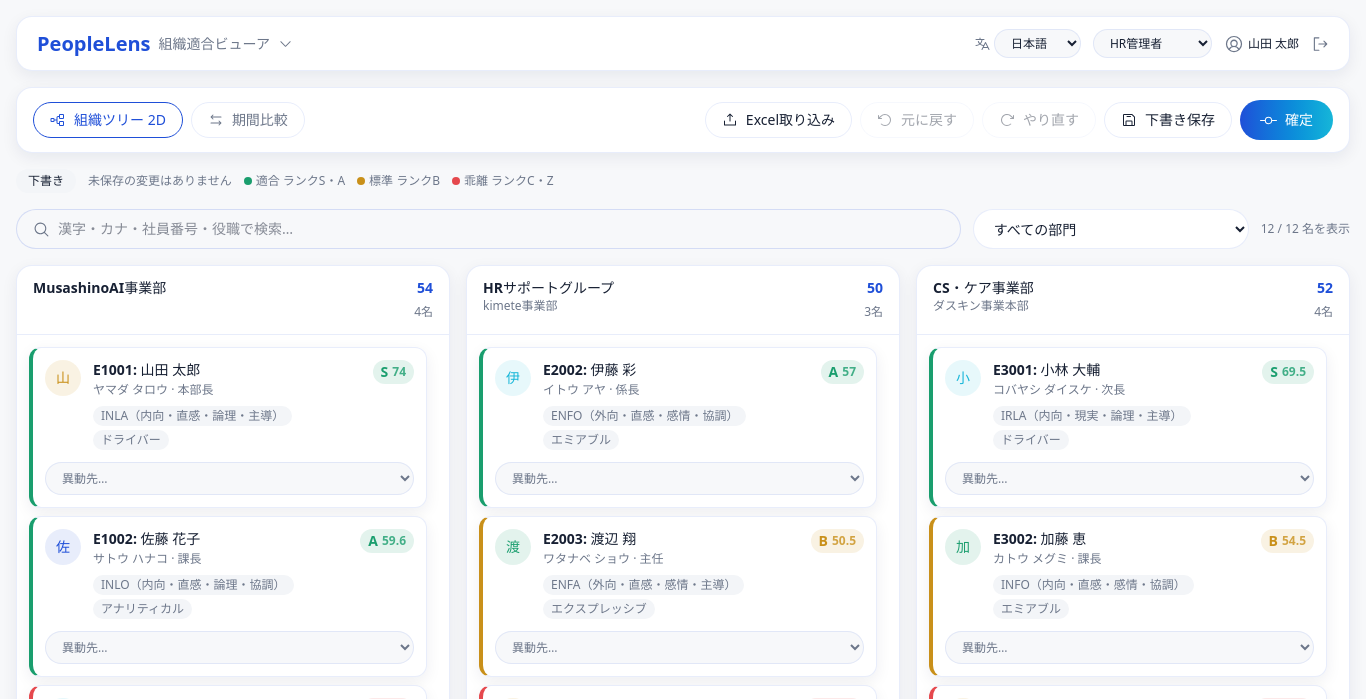
Scenario: PeopleLens organization board › filters the board through the Kanji/Kana search box
Type "やまだ" into the search field named "人材検索" at [501, 229], box [58,219,944,239]
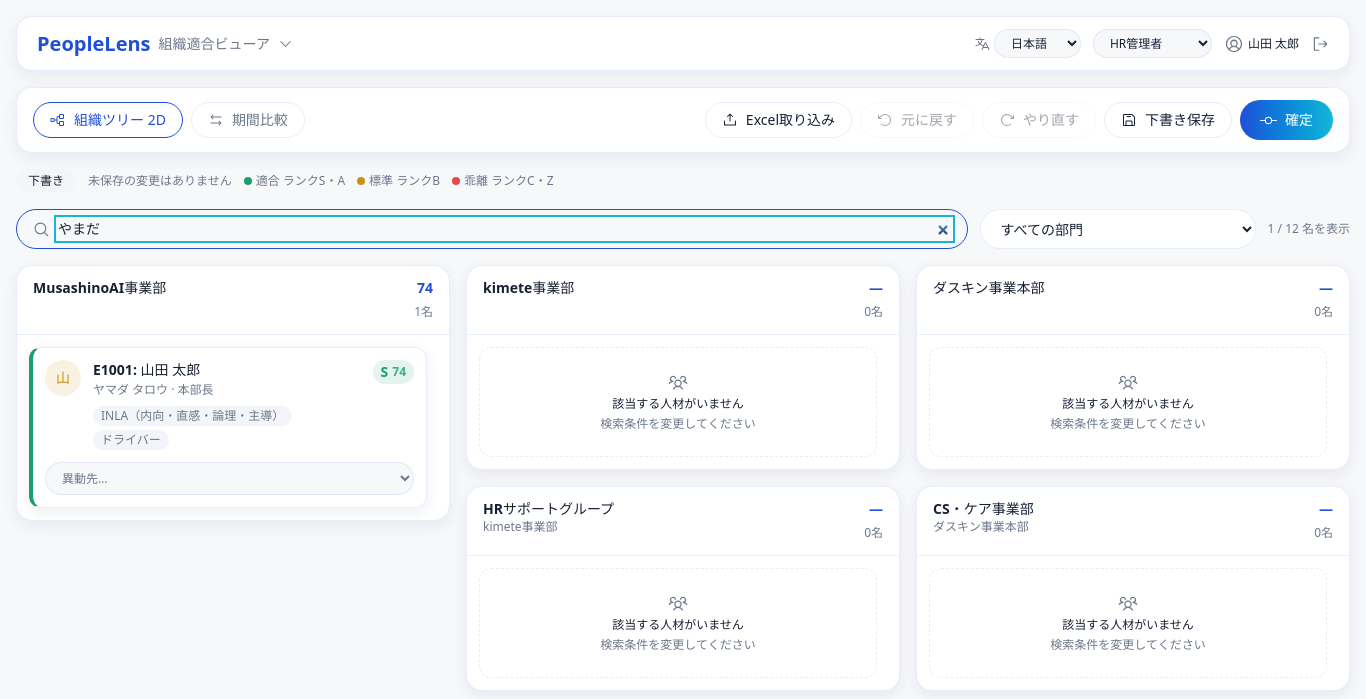
Expected: the button with aria-label "E1001 山田 太郎" is shown, [45,360,414,450]
Result: the button "E1002" is gone
